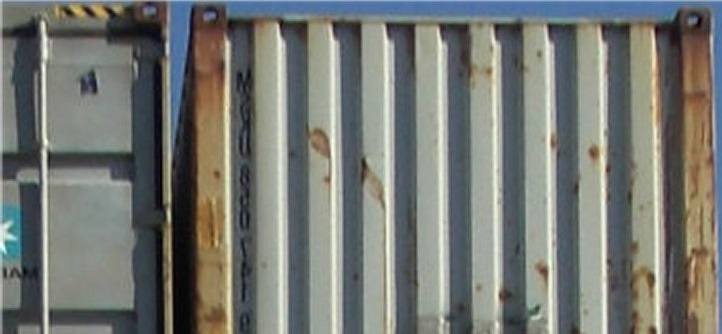container_no_door: (193, 7, 718, 329)
